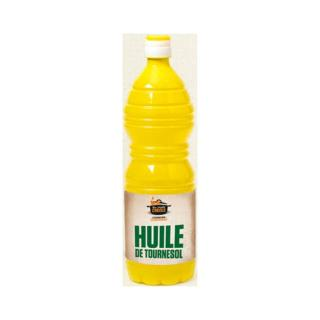Plastic-bottle: (117, 32, 202, 292)
